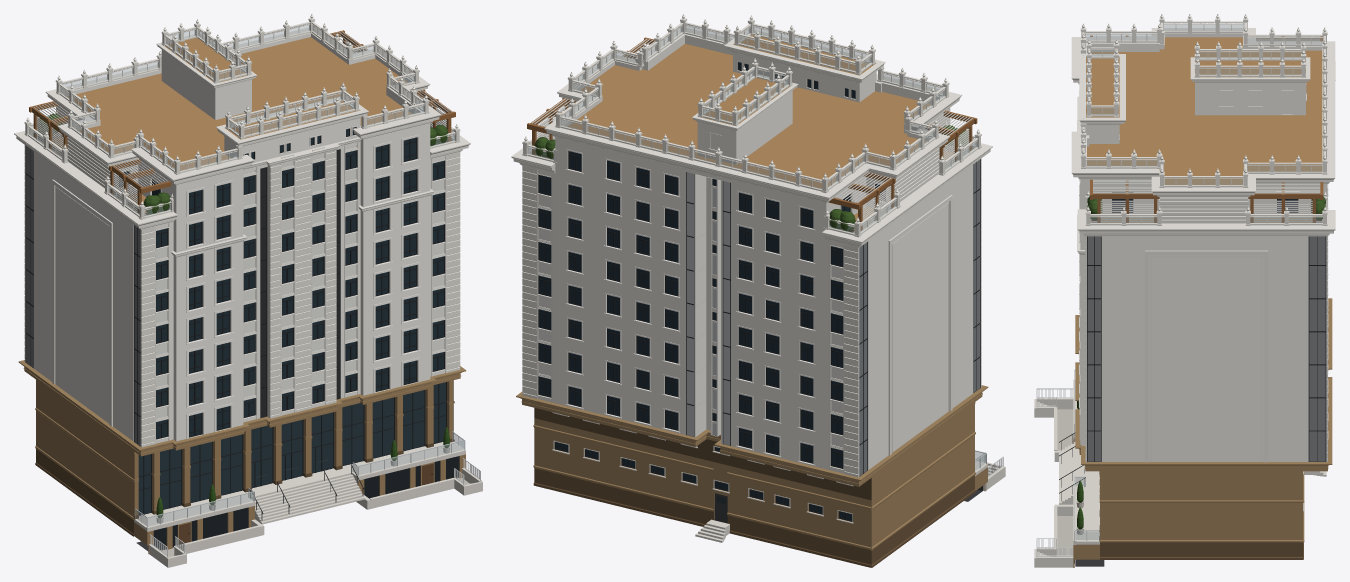
Rendered from house.glb.
3 views of the same model, side by side, from view 1: azimuth 30°, elevation 25°; view 2: azimuth 150°, elevation 25°; view 3: azimuth 270°, elevation 25° (orthographic). The views are drawn at different scales.
Parts seen in each view (by area): view 1: A roof, House podium, A walls 10, House terrace, A walls 09, A walls 07, A walls 06, A walls 05, A walls 04, A walls 08, A walls 03; view 2: A roof, House podium, A walls 10, A walls 08, A walls 07, A walls 09, A walls 05, A walls 04, A walls 06, A walls 03, House terrace; view 3: A roof, House podium, A walls 10, A walls 05, A walls 04, A walls 06, A walls 07, A walls 08, A walls 09, House terrace, A walls 03.
Part boxes in pixels (left/top/right/bottom): A roof: left=45, top=14, right=441, bottom=191; House podium: left=18, top=360, right=466, bottom=536; A walls 10: left=14, top=30, right=470, bottom=229; House terrace: left=134, top=427, right=482, bottom=567; A walls 09: left=24, top=145, right=460, bottom=261; A walls 07: left=24, top=208, right=460, bottom=325; A walls 06: left=24, top=240, right=460, bottom=357; A walls 05: left=24, top=272, right=460, bottom=388; A walls 04: left=24, top=304, right=460, bottom=420; A walls 08: left=24, top=176, right=460, bottom=293; A walls 03: left=24, top=336, right=460, bottom=447; A roof: left=544, top=14, right=962, bottom=203; House podium: left=516, top=385, right=988, bottom=567; A walls 10: left=511, top=37, right=992, bottom=247; A walls 08: left=522, top=191, right=981, bottom=314; A walls 07: left=522, top=225, right=981, bottom=348; A walls 09: left=522, top=158, right=981, bottom=281; A walls 05: left=522, top=292, right=981, bottom=415; A walls 04: left=522, top=326, right=981, bottom=449; A walls 06: left=522, top=259, right=981, bottom=382; A walls 03: left=522, top=359, right=981, bottom=477; House terrace: left=964, top=450, right=1005, bottom=501; A roof: left=1071, top=14, right=1335, bottom=197; House podium: left=1075, top=298, right=1332, bottom=559; A walls 10: left=1077, top=35, right=1335, bottom=236; A walls 05: left=1079, top=261, right=1328, bottom=401; A walls 04: left=1079, top=295, right=1328, bottom=434; A walls 06: left=1079, top=197, right=1328, bottom=368; A walls 07: left=1079, top=195, right=1328, bottom=335; A walls 08: left=1079, top=179, right=1328, bottom=302; A walls 09: left=1077, top=120, right=1328, bottom=269; House terrace: left=1034, top=369, right=1104, bottom=567; A walls 03: left=1079, top=328, right=1328, bottom=462.
Bounding box in the file's own units: 35.48 × 42.34 × 26.84.
